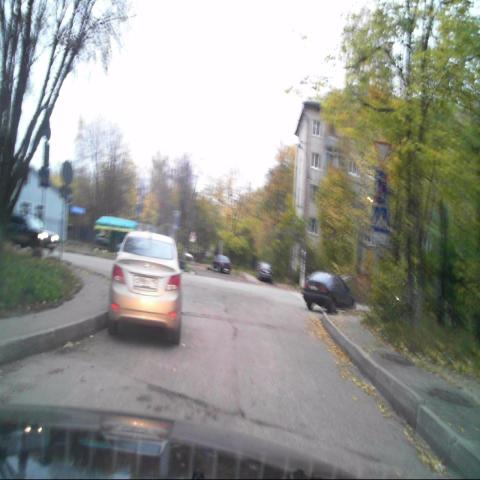5_22: (374, 170, 388, 202)
